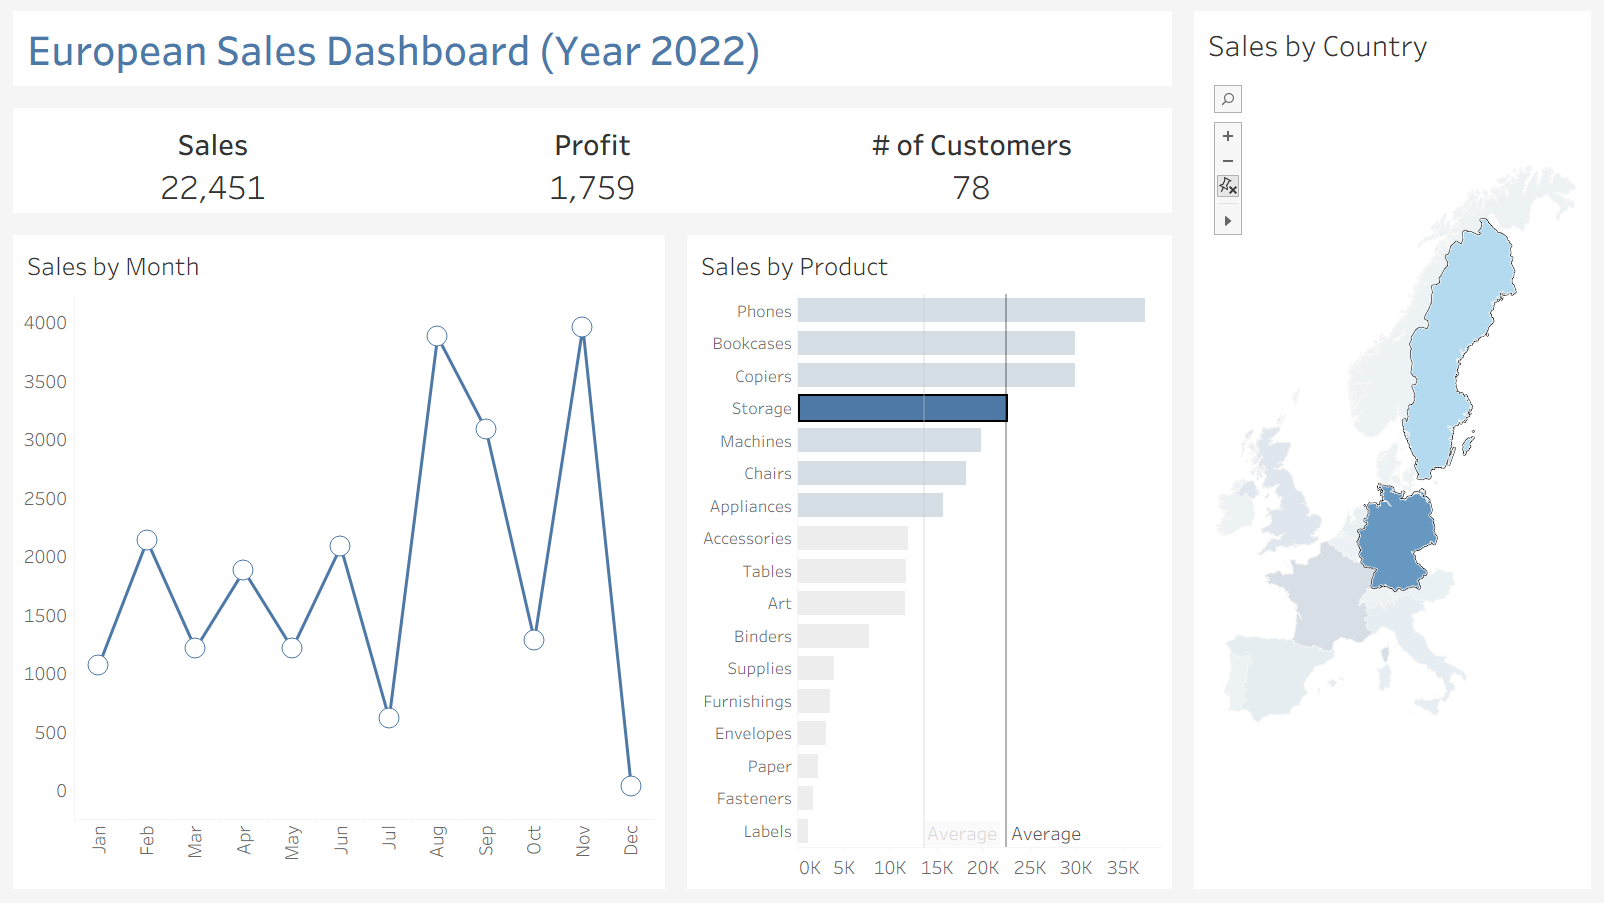

What the dashboard file says about the page in this screenshot:
{"tool":"tableau","page":{"name":"Dashboard 1","canvas":[1600,900],"ordinal":0},"visuals":[{"type":"text","box":[0,0,1181,97]},{"type":"worksheet","title":"Sales by Country","mark":"Automatic","box":[1181,0,419,900]},{"type":"legend","title":"Sales by Country","param":"[federated.0iooqsl0s16nlr117umnh0294ccn].[sum:Sales:qk]","box":[1432,8,160,81]},{"type":"legend","title":"Sales by Product","param":"[federated.0iooqsl0s16nlr117umnh0294ccn].[usr:Calculation_1062700389011456:nk:1]","box":[1432,89,160,84]},{"type":"worksheet","title":"KPIs","mark":"Automatic","box":[0,97,1181,127]},{"type":"worksheet","title":"Sales by Month","mark":"Automatic","rows":["Sales","Sales"],"cols":["Order Date"],"box":[0,224,674,675.9]},{"type":"worksheet","title":"Sales by Product","mark":"Automatic","rows":["Sub-Category"],"cols":["Sales"],"box":[674,224,507,675.9]}]}

Visuals, with their boxes in screenshot pixels (x1, y1, x2, y2), scaled from the page's 1600x900 canvas onto the 1604x903 screenshot:
text: <region>0, 0, 1184, 97</region>
"Sales by Country" worksheet: <region>1184, 0, 1603, 902</region>
"Sales by Country" legend: <region>1436, 8, 1596, 89</region>
"Sales by Product" legend: <region>1436, 89, 1596, 174</region>
"KPIs" worksheet: <region>0, 97, 1184, 225</region>
"Sales by Month" worksheet: <region>0, 225, 676, 902</region>
"Sales by Product" worksheet: <region>676, 225, 1184, 902</region>
